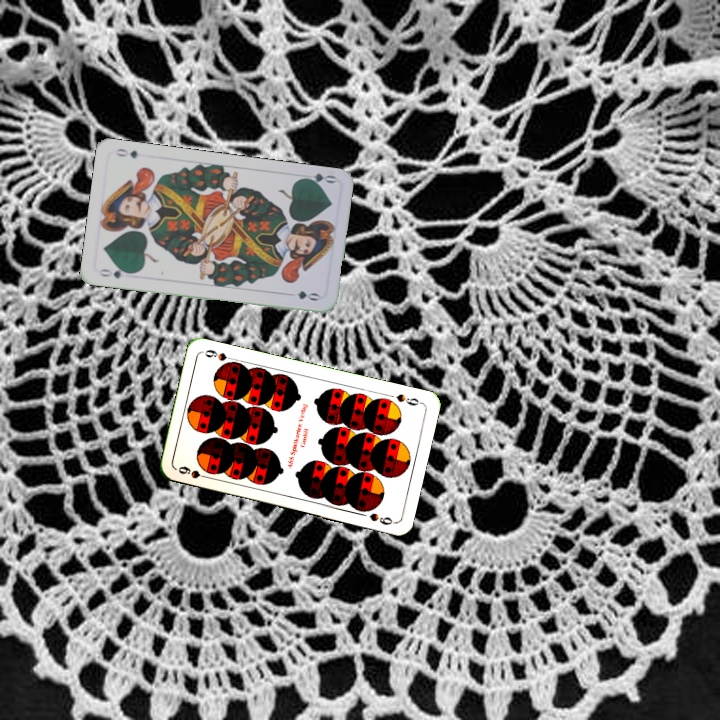GO: (297, 169, 338, 189), (95, 264, 135, 281)
S9: (174, 462, 214, 481), (392, 390, 425, 408)
